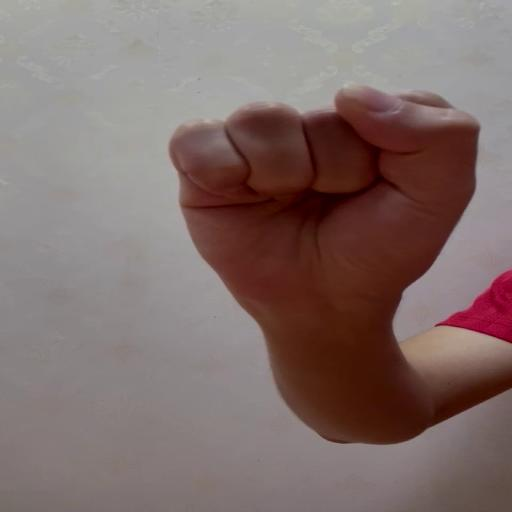fist: (165, 87, 484, 315)
